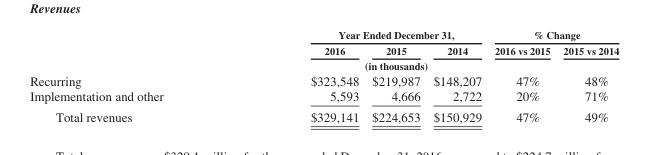table: (29, 28, 618, 123)
table column: (29, 28, 236, 123), (236, 28, 364, 123), (487, 28, 556, 123), (364, 28, 426, 123), (556, 28, 618, 123), (426, 28, 487, 123)
table column header: (29, 28, 618, 72)
table row: (29, 88, 618, 106), (29, 106, 618, 123), (29, 72, 618, 88), (29, 42, 618, 57), (29, 57, 618, 72), (29, 28, 618, 42)
table spanning cell: (236, 57, 487, 72), (236, 28, 487, 42), (487, 42, 556, 72), (556, 42, 618, 72), (487, 28, 618, 42)
